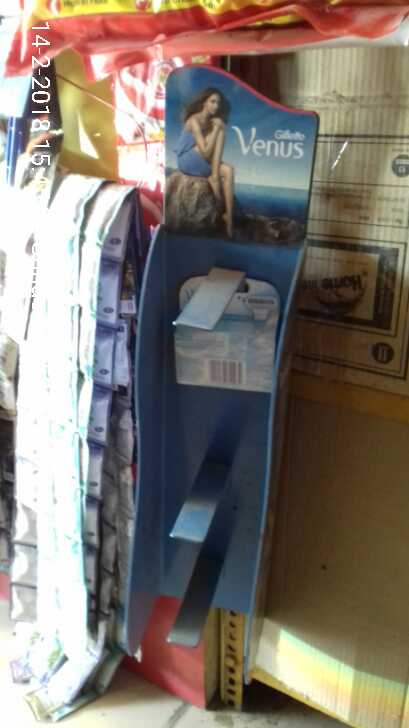reject: (172, 156, 272, 432)
